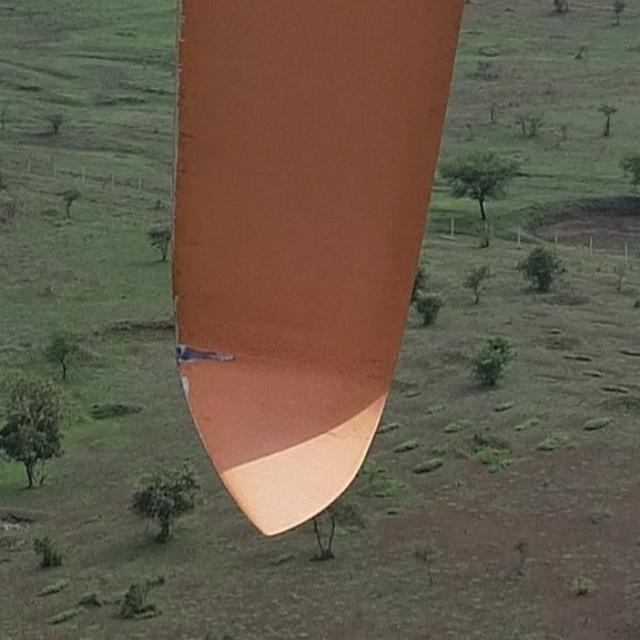EROSION: (164, 267, 223, 424)
